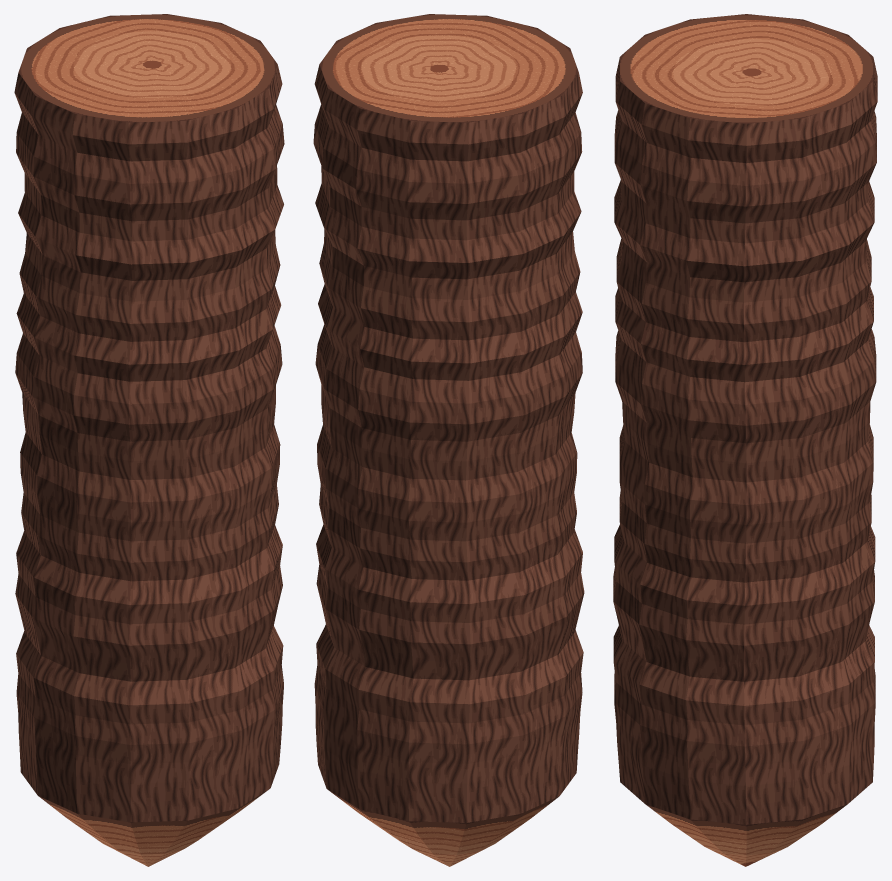
The model's file is environment_redwood3_log_v2.fbx.
3 renders of one model, left to right at view 1: azimuth 30°, elevation 25°; view 2: azimuth 150°, elevation 25°; view 3: azimuth 270°, elevation 25°, orthographic.
Parts seen in each view (by area): view 1: environment_redwood3_log_v2; view 2: environment_redwood3_log_v2; view 3: environment_redwood3_log_v2.
Boxes of the visible parts, left/top/right/bottom form: environment_redwood3_log_v2: left=14, top=14, right=284, bottom=866; environment_redwood3_log_v2: left=313, top=14, right=584, bottom=866; environment_redwood3_log_v2: left=613, top=14, right=877, bottom=866.
Size of the model in its own units: 615 by 2000 by 600.
